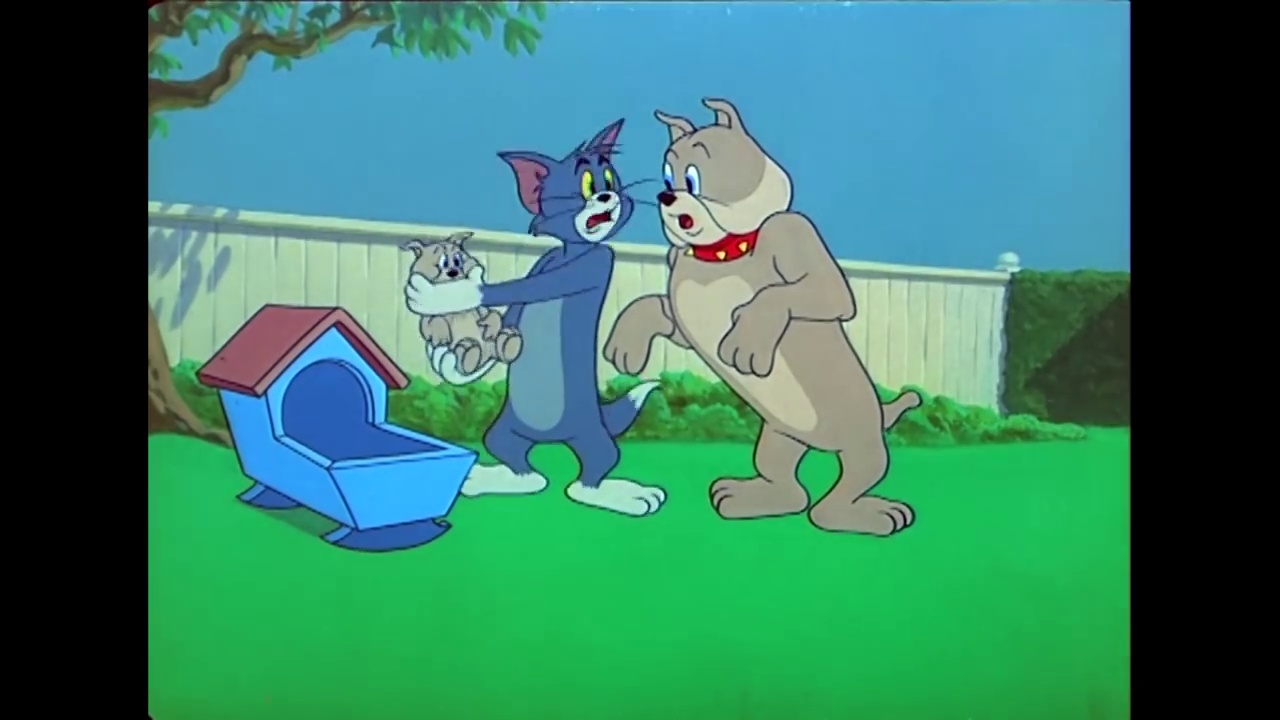spike: (649, 96, 793, 266)
tom: (492, 116, 638, 255)
